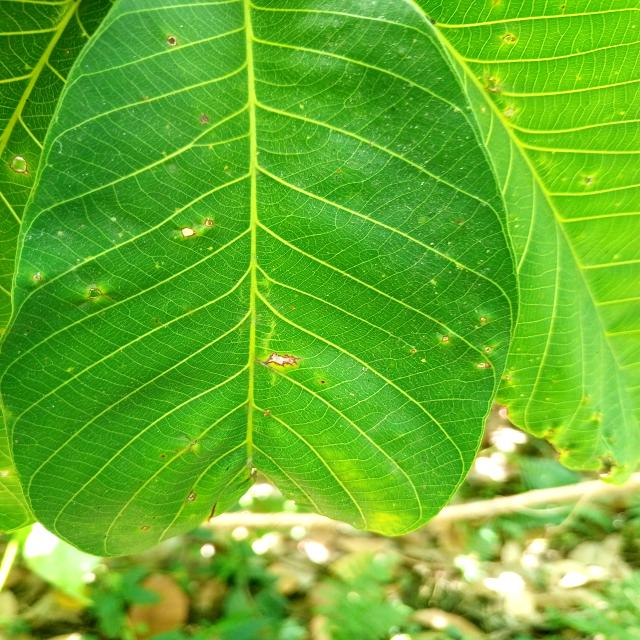Colletotrichum: (9, 156, 29, 176), (88, 288, 102, 299), (180, 227, 194, 237), (166, 35, 178, 46), (32, 274, 42, 281), (483, 346, 492, 353), (477, 362, 487, 368), (205, 220, 213, 227), (441, 336, 450, 341), (480, 316, 487, 322), (141, 526, 149, 530)
Corynespora: (264, 352, 303, 367), (208, 502, 217, 520)
